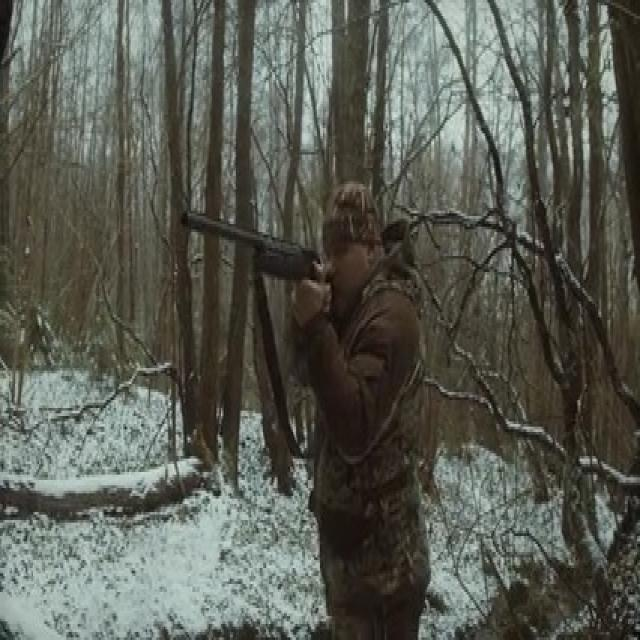Gun_Holder: (179, 203, 331, 330)
Person: (284, 168, 430, 640)
